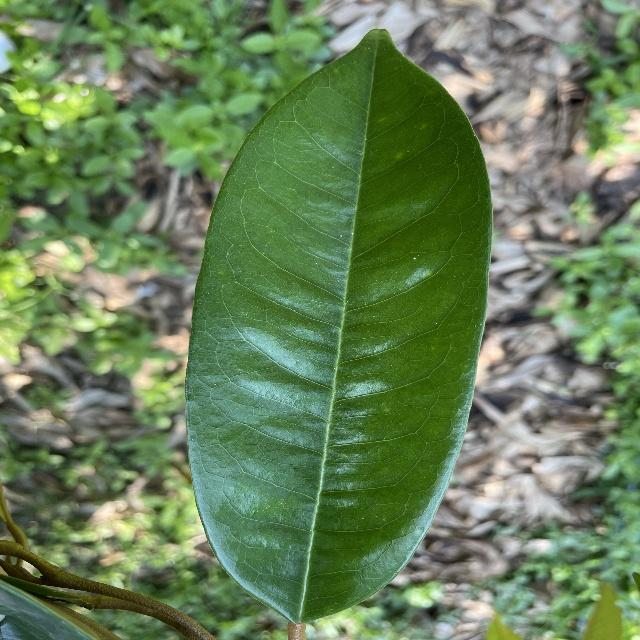No Disease: (183, 25, 507, 633)
